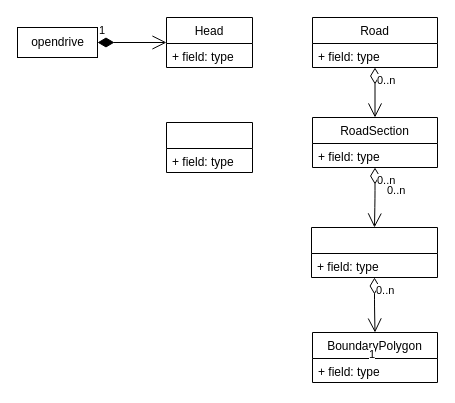
This 455x403 diagram has some shape labels left out. The shapes that lost their labels are listed below. From the top down, each one's box as (x1, y1, x2, y2) in pixels, then its label:
(166, 122, 252, 172): Map
(310, 226, 438, 278): RoadBoundary
